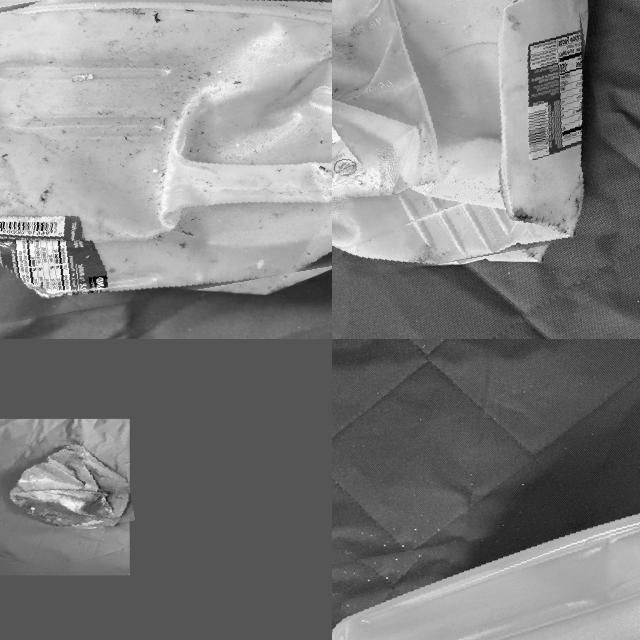milk-jug: (0, 0, 332, 313), (332, 0, 600, 279), (332, 500, 640, 640), (0, 435, 130, 537)
